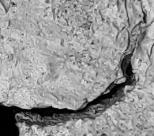crack: (1, 1, 154, 136)
